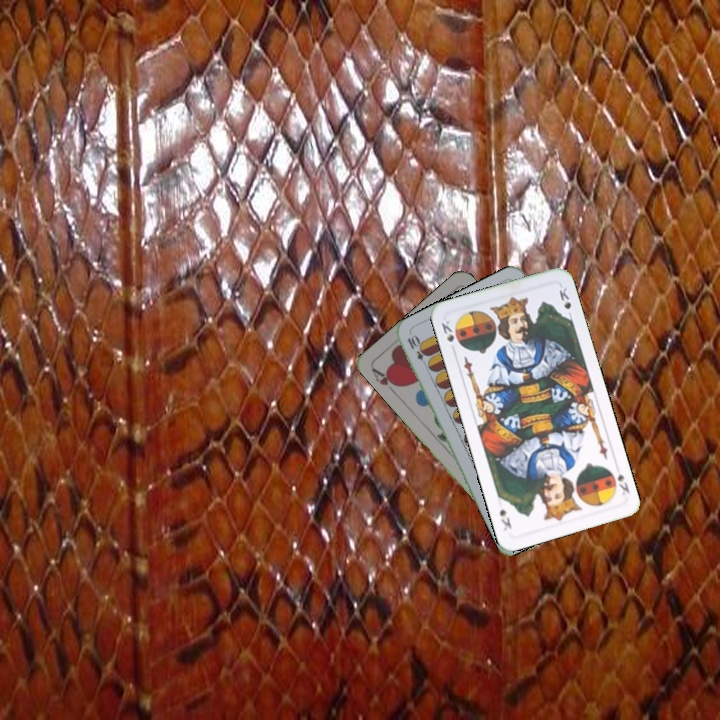E10: (403, 331, 431, 370)
HA: (367, 364, 402, 397)
SK: (437, 316, 463, 355), (613, 469, 632, 498)
